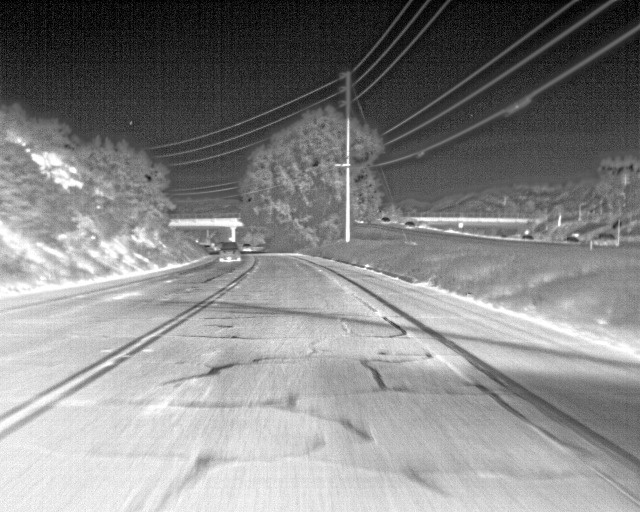vehicle: (218, 242, 245, 265)
